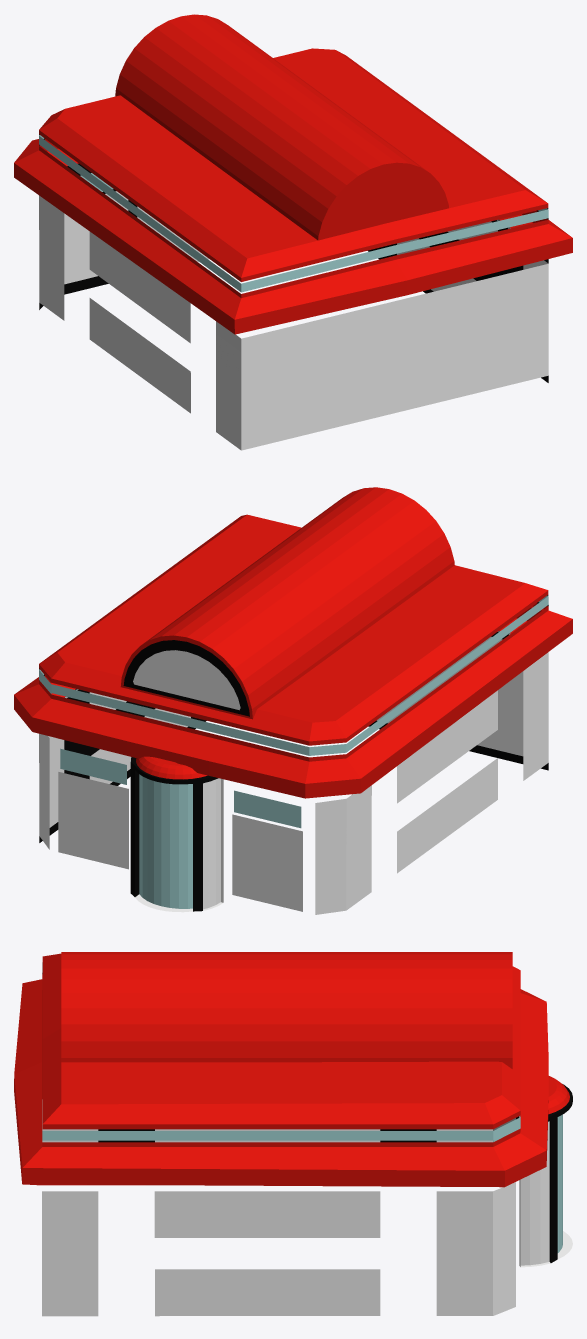
The model's file is Pokecenter (1).fbx.
3 renders of one model, top to bottom at view 1: azimuth 30°, elevation 25°; view 2: azimuth 150°, elevation 25°; view 3: azimuth 270°, elevation 25°, orthographic. The views are drawn at different scales.
Visible parts, largest first — view 1: Cylinder; view 2: Cylinder; view 3: Cylinder.
Part boxes in pixels (bbox=[...]): Cylinder: bbox=[14, 14, 572, 450]; Cylinder: bbox=[14, 487, 572, 914]; Cylinder: bbox=[14, 952, 572, 1316].
Bounding box in the file's own units: 847 × 590 × 1060.
